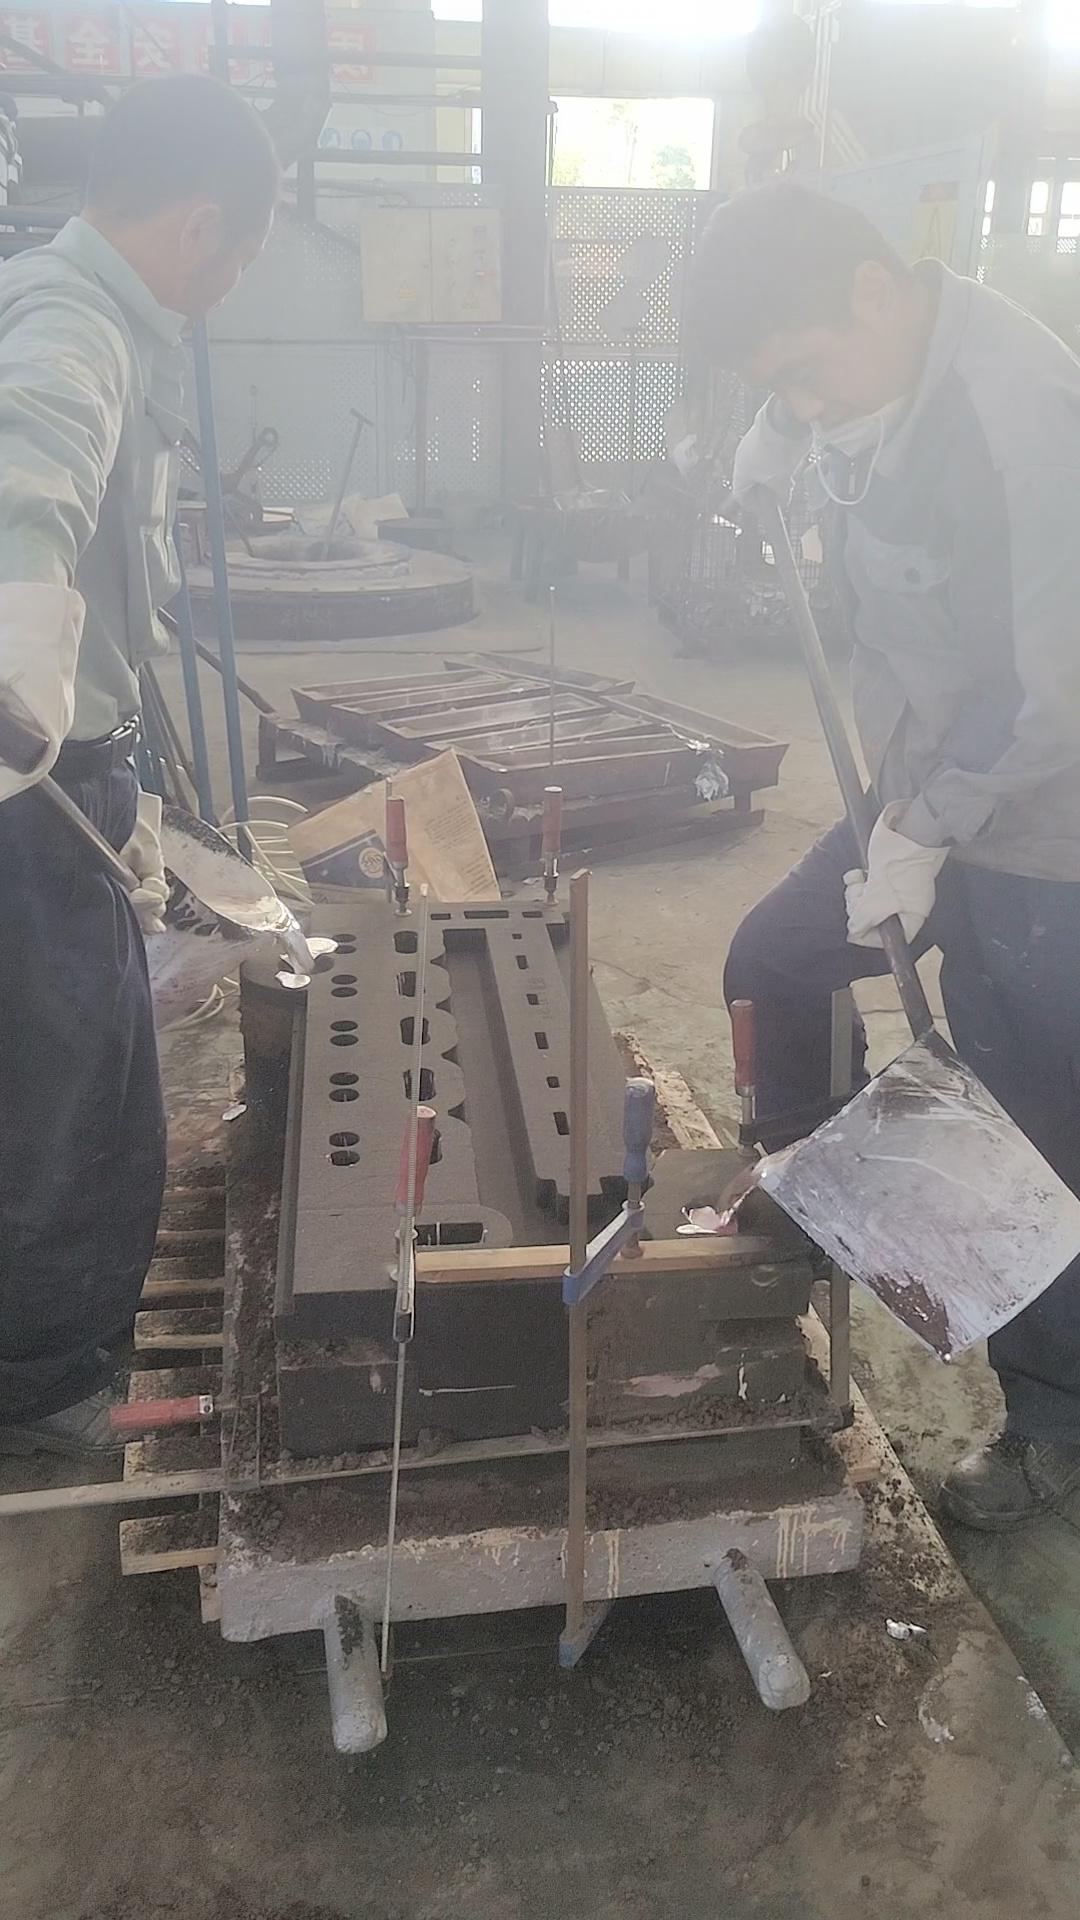pouring hole: (680, 1193, 760, 1237), (276, 953, 336, 977)
